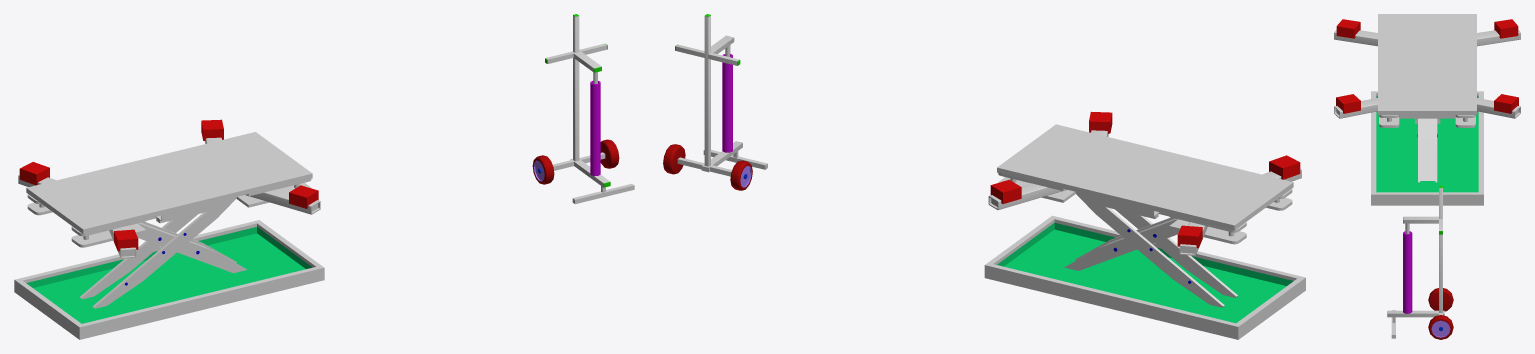
The model's file is Equipment.fbx.
3 views of the same model, side by side, from view 1: azimuth 30°, elevation 25°; view 2: azimuth 150°, elevation 25°; view 3: azimuth 270°, elevation 25° (orthographic). The views are drawn at different scales.
Parts seen in each view (by area): view 1: Jollift, tray_02; view 2: Jollift, tray_02; view 3: Jollift, tray_02.
Part boxes in pixels (x1=…): Jollift: x1=14, y1=119, x2=324, y2=339; tray_02: x1=532, y1=14, x2=634, y2=204; Jollift: x1=984, y1=111, x2=1305, y2=339; tray_02: x1=663, y1=14, x2=767, y2=190; Jollift: x1=1334, y1=14, x2=1520, y2=205; tray_02: x1=1387, y1=185, x2=1453, y2=339.
Size of the model in its own units: 6881 by 1972 by 2244.
